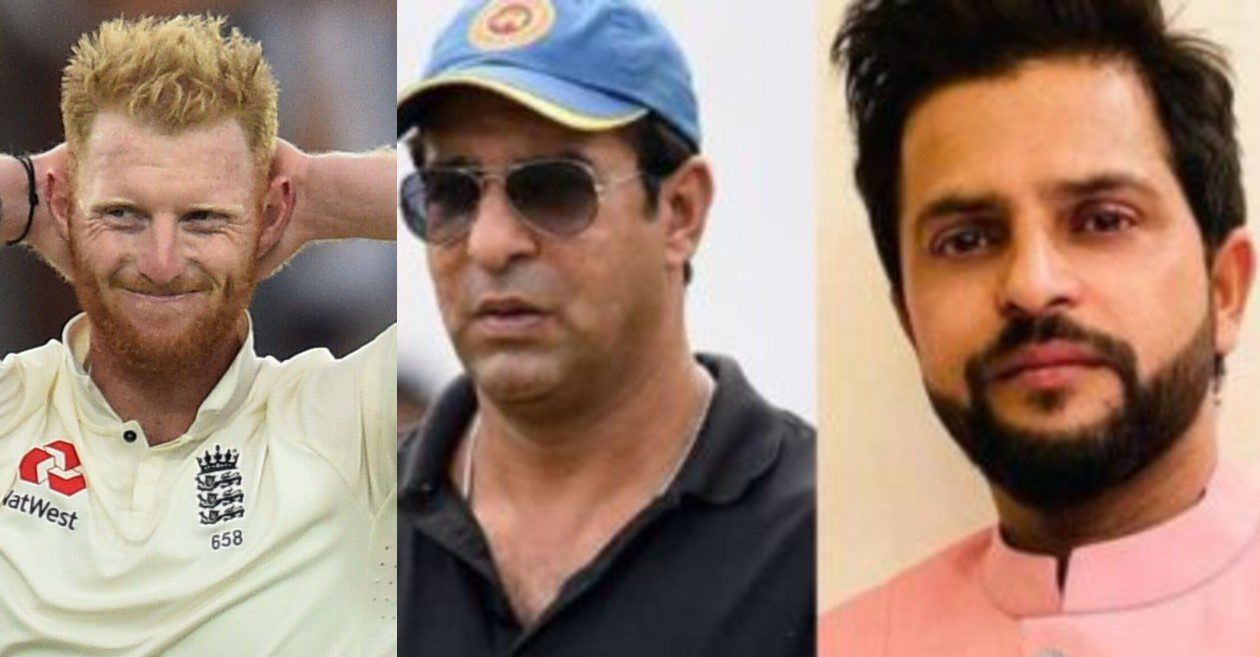NoMask: (905, 158, 1188, 494), (421, 139, 619, 403), (83, 187, 243, 365)
